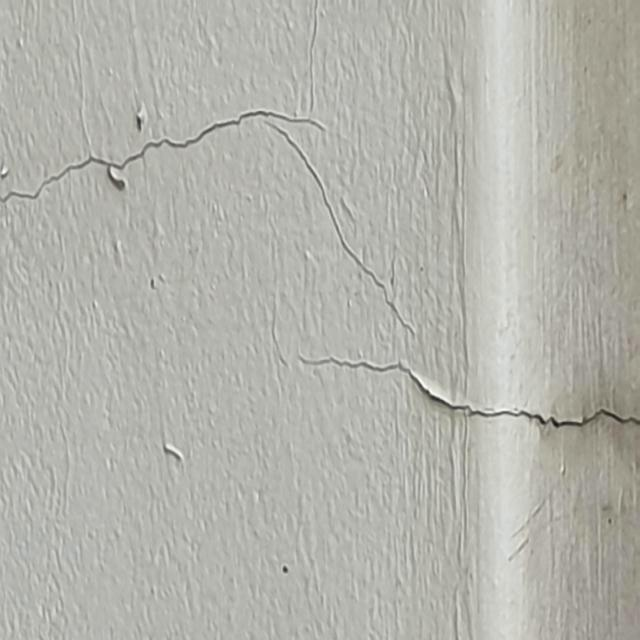SurfaceCrack: (2, 92, 416, 314)
